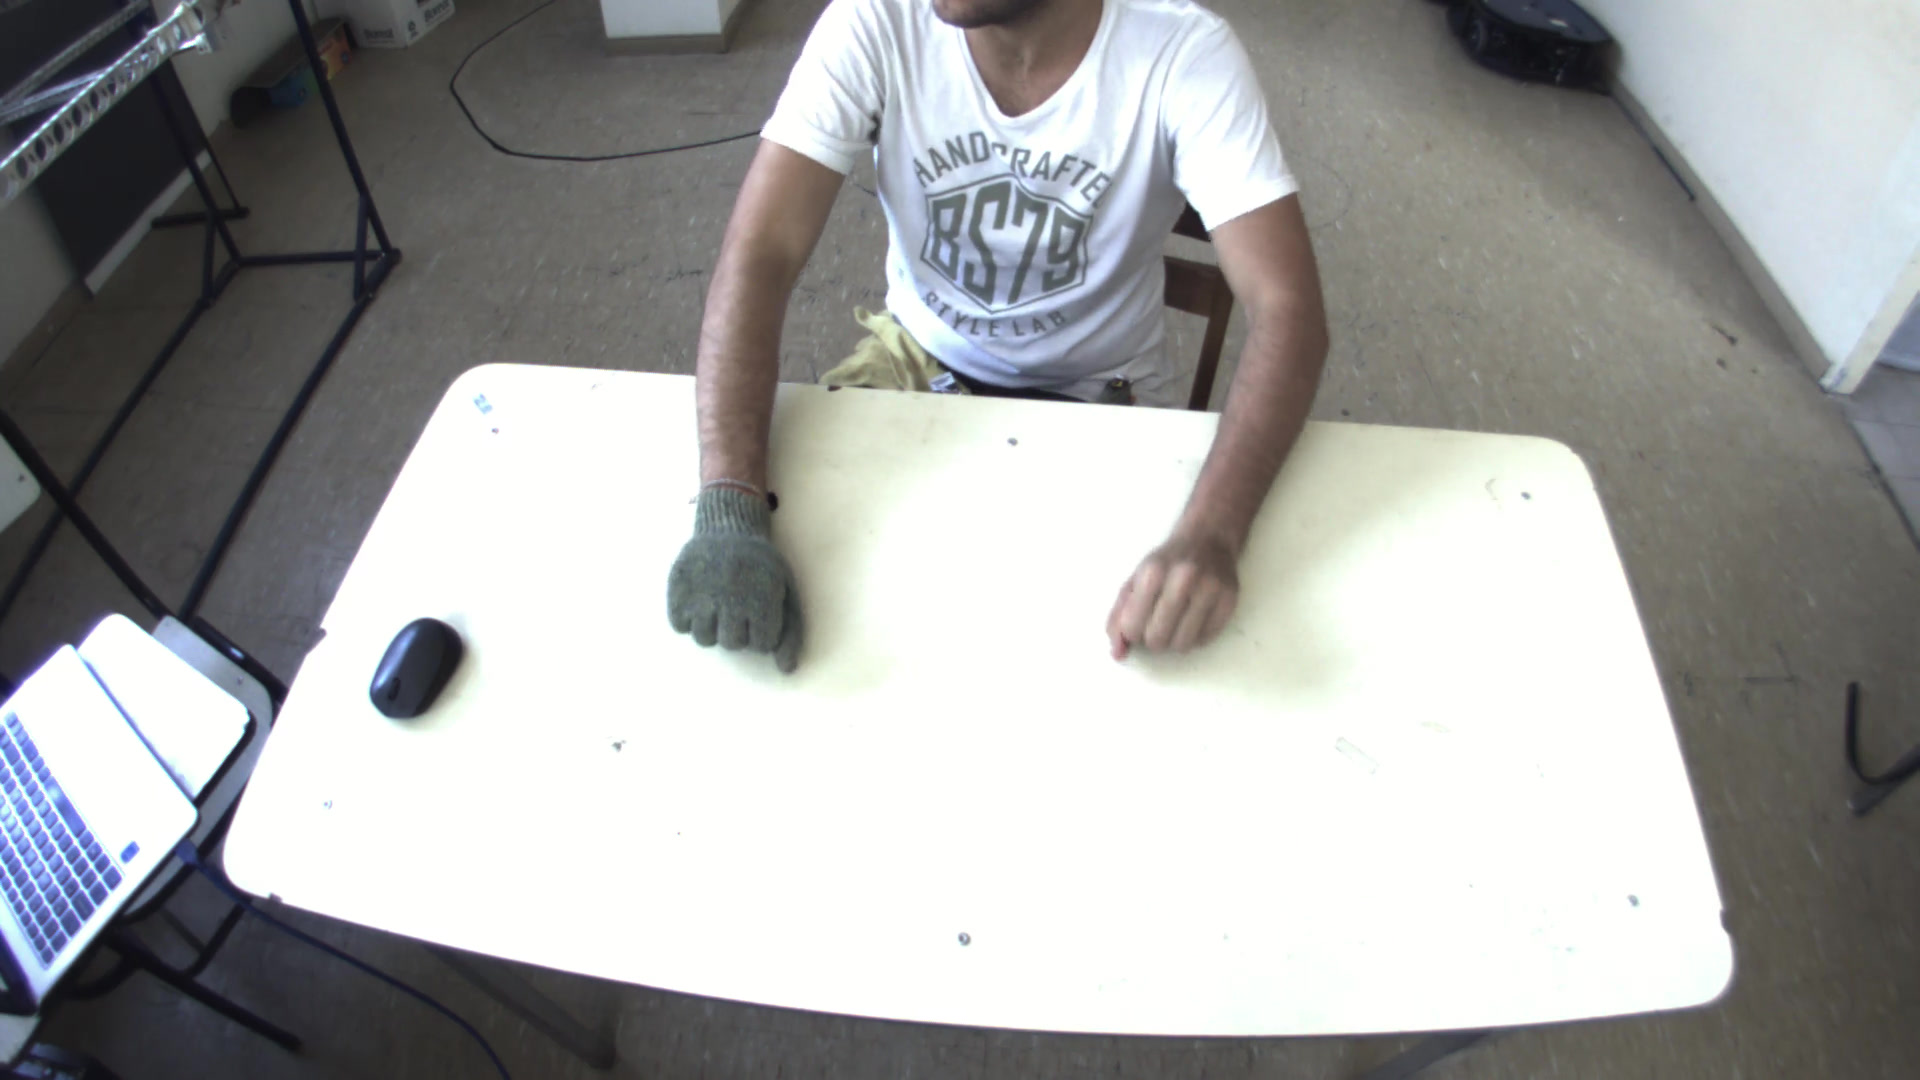hand: (654, 469, 807, 669), (1098, 512, 1262, 657)
